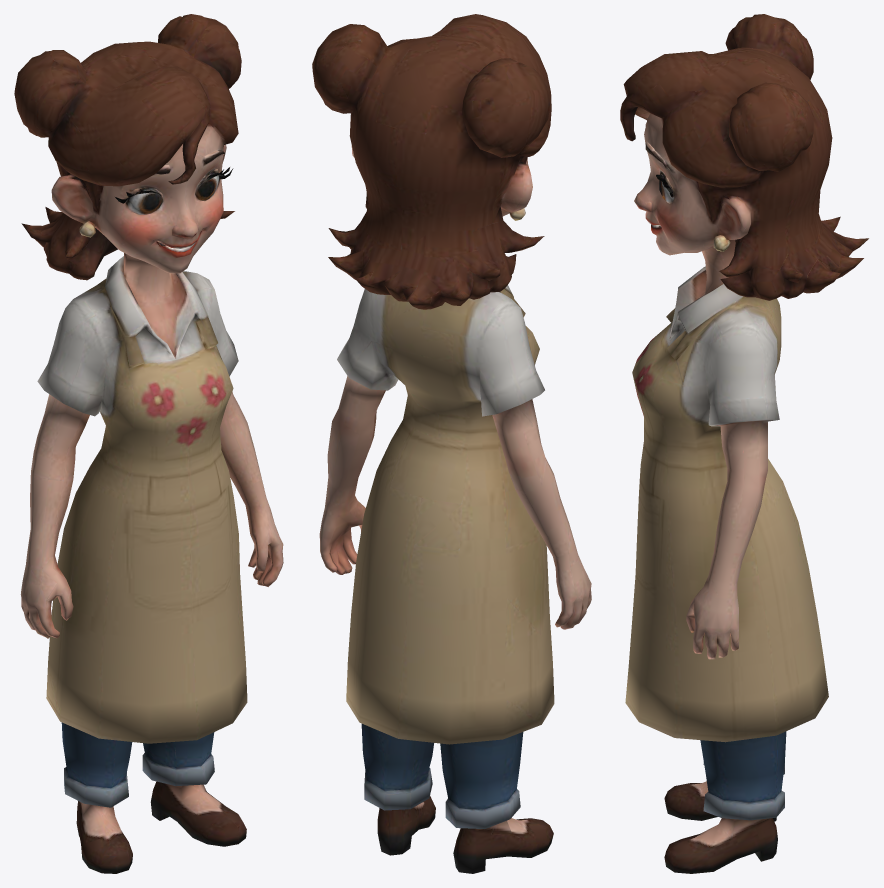
The model's file is girl.glb.
3 views of the same model, side by side, from view 1: azimuth 30°, elevation 25°; view 2: azimuth 150°, elevation 25°; view 3: azimuth 270°, elevation 25° (orthographic). The views are drawn at different scales.
Parts seen in each view (by area): view 1: tripo_node_c13ba753-7a7e-411d-afee-ed4cfd4d6402; view 2: tripo_node_c13ba753-7a7e-411d-afee-ed4cfd4d6402; view 3: tripo_node_c13ba753-7a7e-411d-afee-ed4cfd4d6402.
Boxes of the visible parts, <box> form: tripo_node_c13ba753-7a7e-411d-afee-ed4cfd4d6402: <box>14,14,283,873</box>; tripo_node_c13ba753-7a7e-411d-afee-ed4cfd4d6402: <box>312,14,591,873</box>; tripo_node_c13ba753-7a7e-411d-afee-ed4cfd4d6402: <box>620,14,868,873</box>.
Size of the model in its own units: 0.334 by 0.998 by 0.2871.
Materials: 1 (1 with a texture image).
